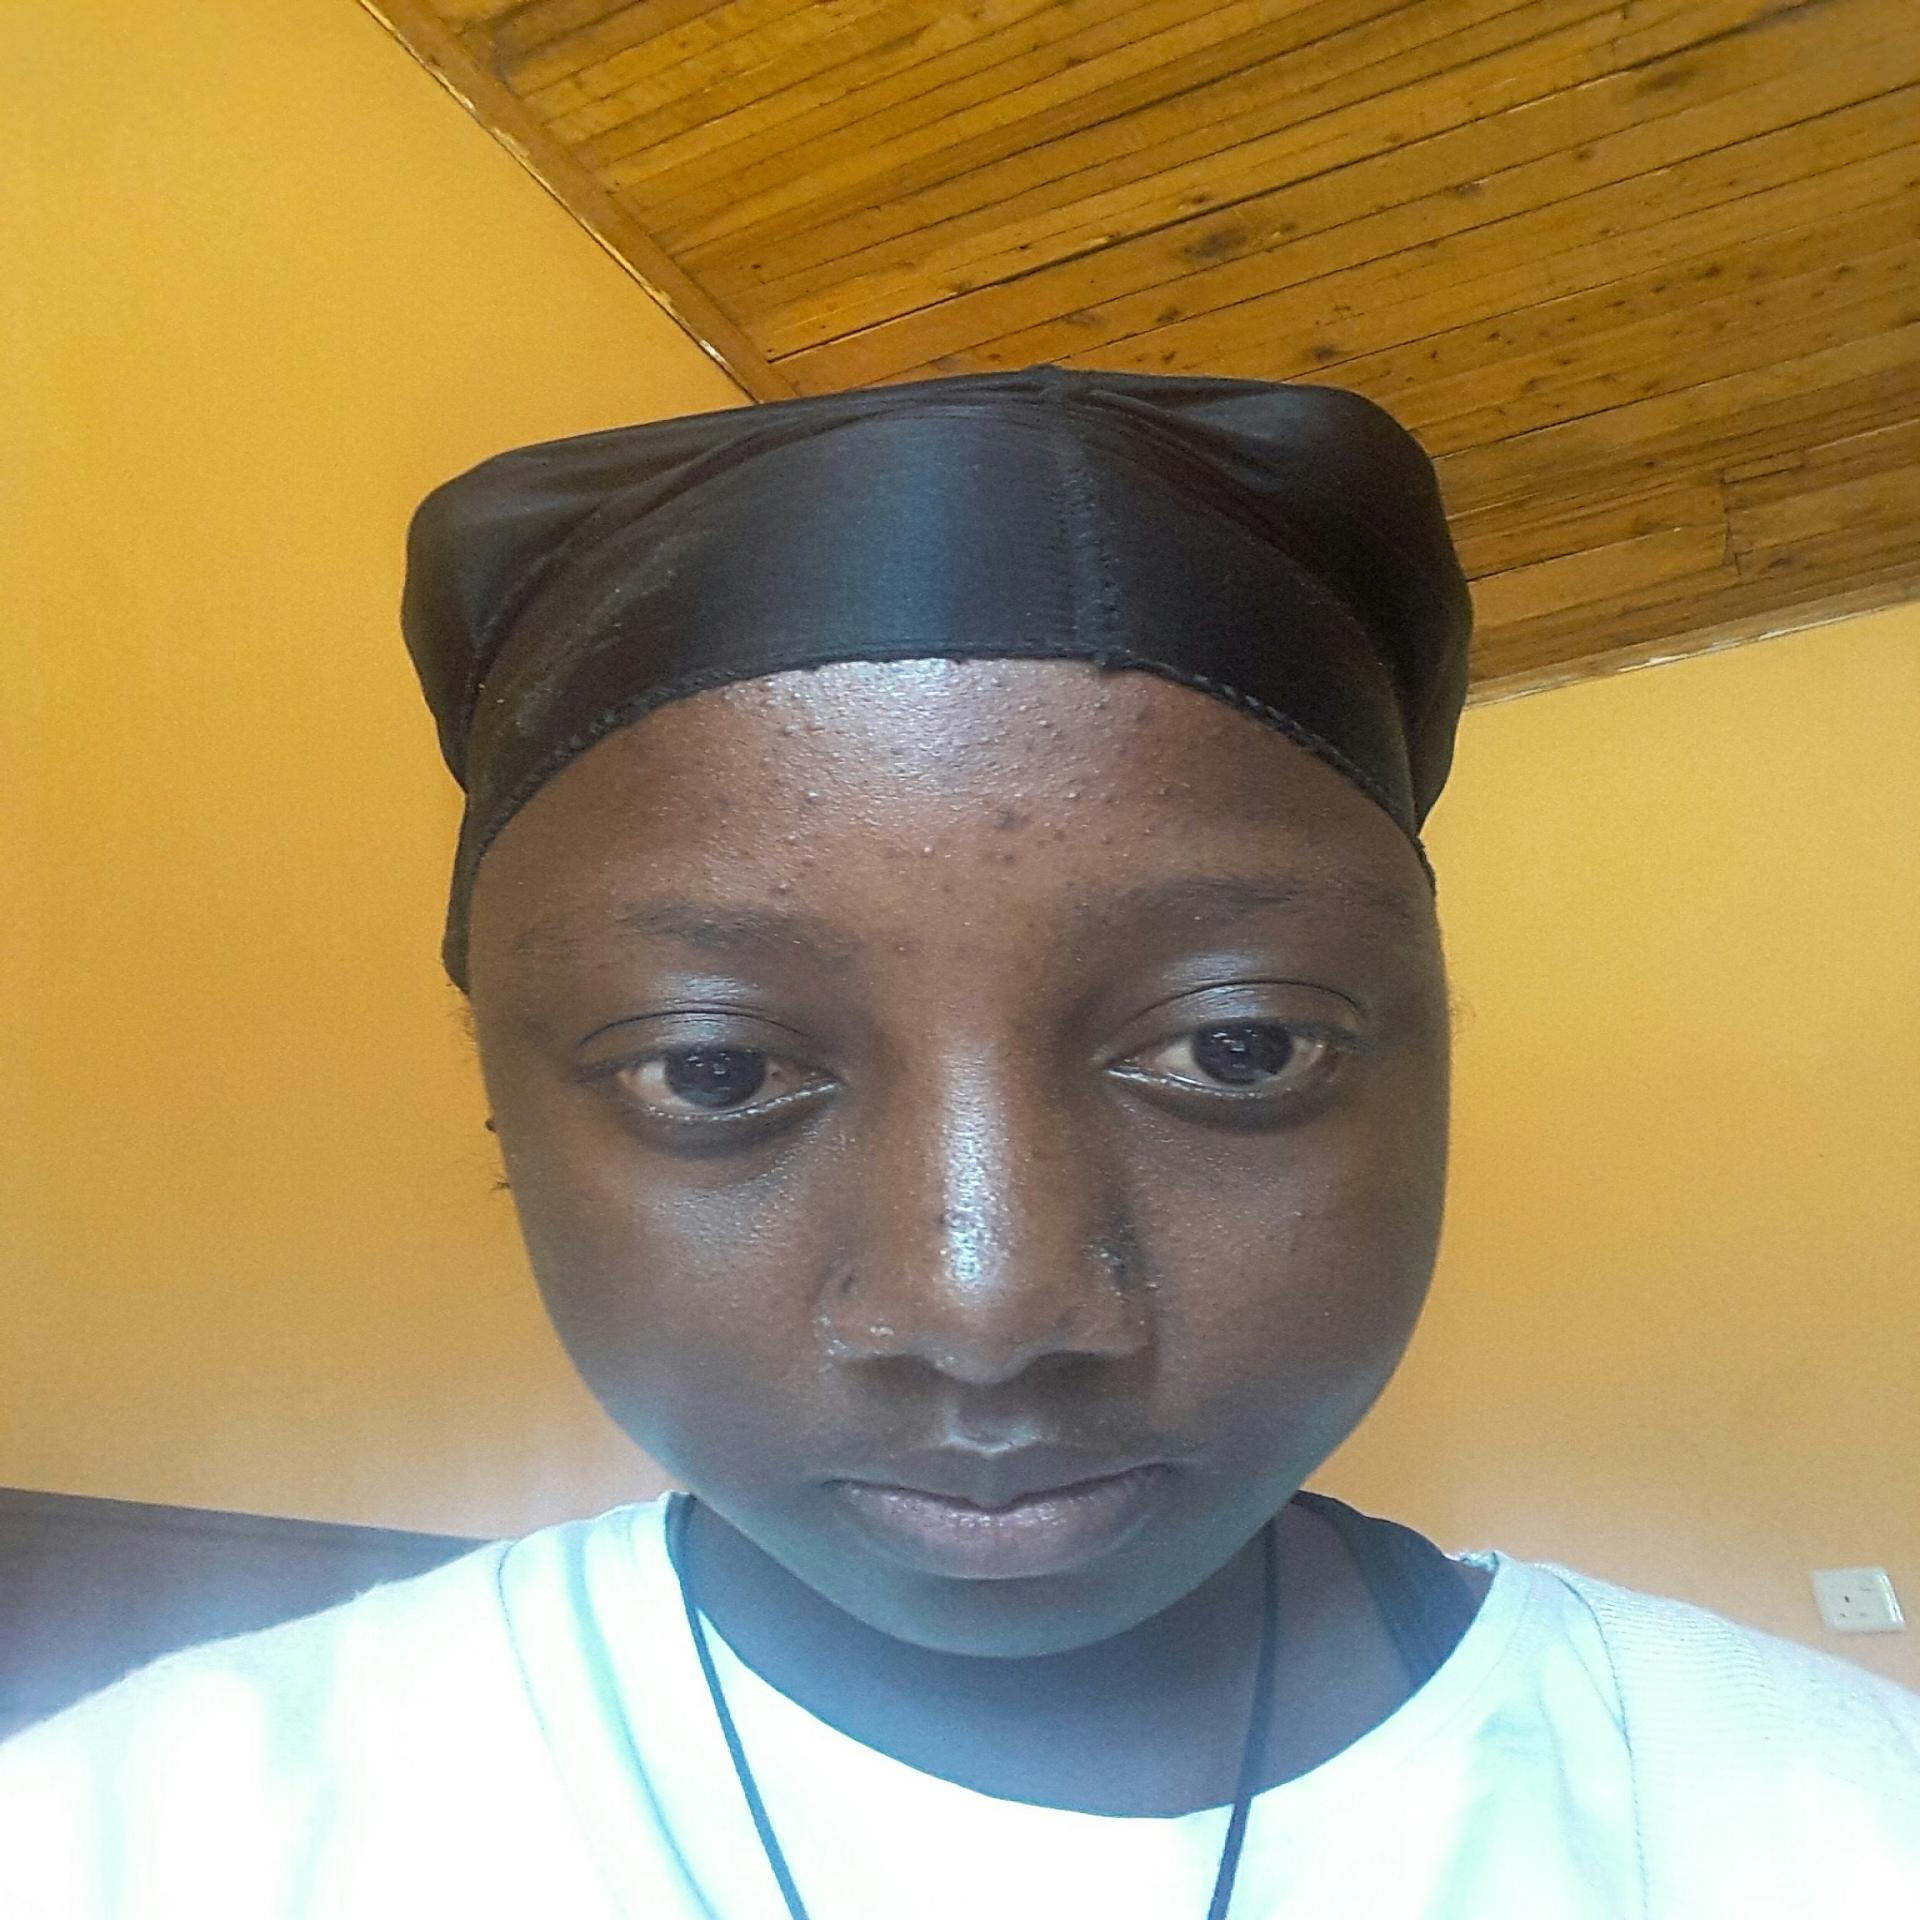Acne: (1088, 1225, 1169, 1310), (934, 1201, 986, 1234), (983, 804, 1030, 830), (1015, 700, 1053, 731), (754, 677, 784, 710), (795, 788, 830, 809), (990, 844, 1023, 865), (1124, 703, 1155, 724), (775, 830, 805, 849), (772, 876, 796, 898), (840, 1266, 862, 1292), (825, 747, 853, 765), (777, 719, 802, 738), (888, 941, 914, 958), (883, 740, 909, 758), (918, 839, 941, 858), (1095, 830, 1118, 849), (1138, 821, 1162, 839), (1087, 695, 1108, 714), (1108, 738, 1129, 758), (1055, 786, 1081, 800), (939, 879, 960, 895), (809, 719, 832, 733), (714, 693, 737, 705), (1094, 789, 1116, 802), (985, 675, 1004, 689), (791, 691, 812, 703), (758, 753, 772, 770), (1157, 782, 1173, 796)
Dark Circles: (591, 1083, 853, 1210), (1092, 1062, 1342, 1192)
